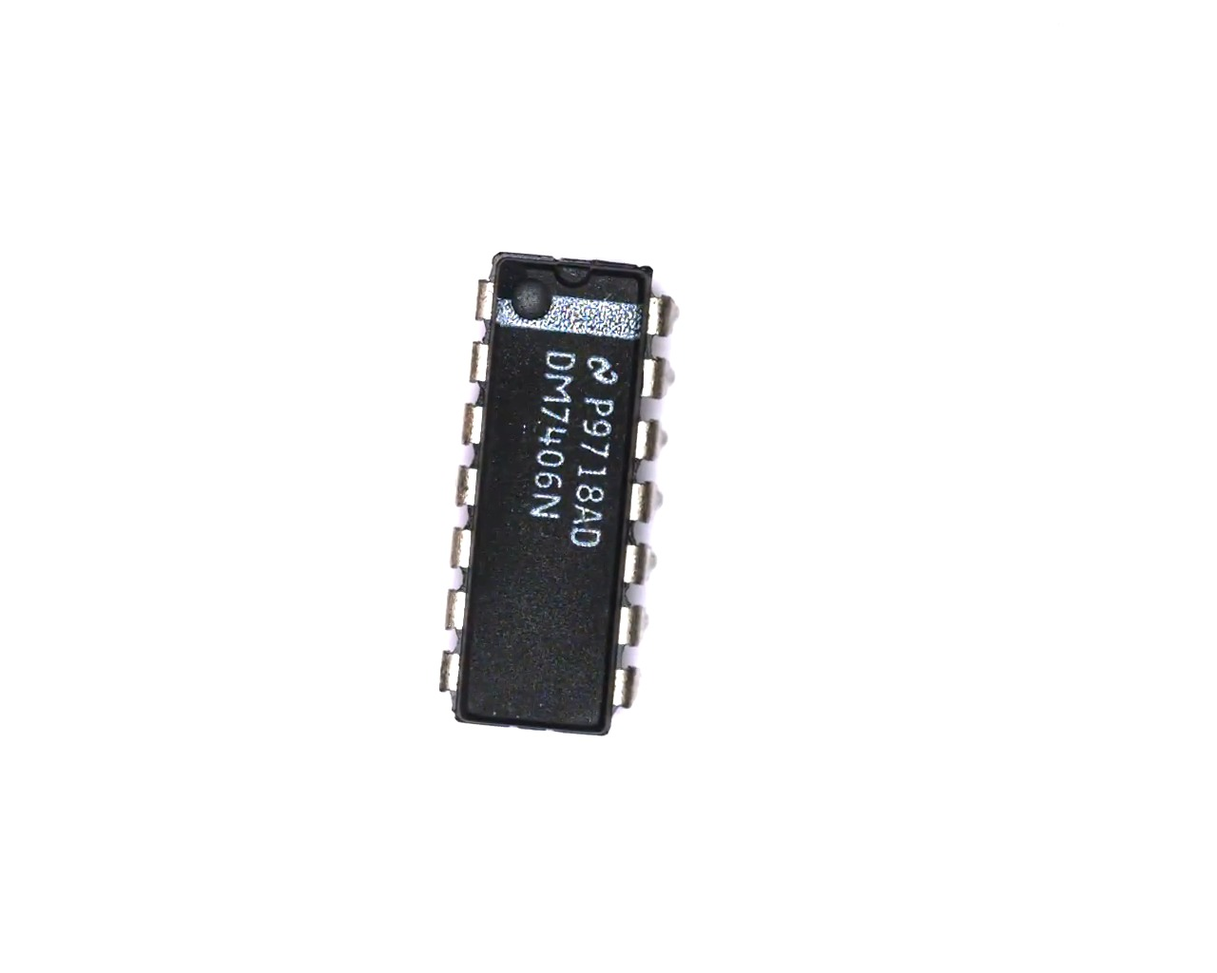IC: (428, 238, 694, 751)
notch: (549, 250, 596, 296)
